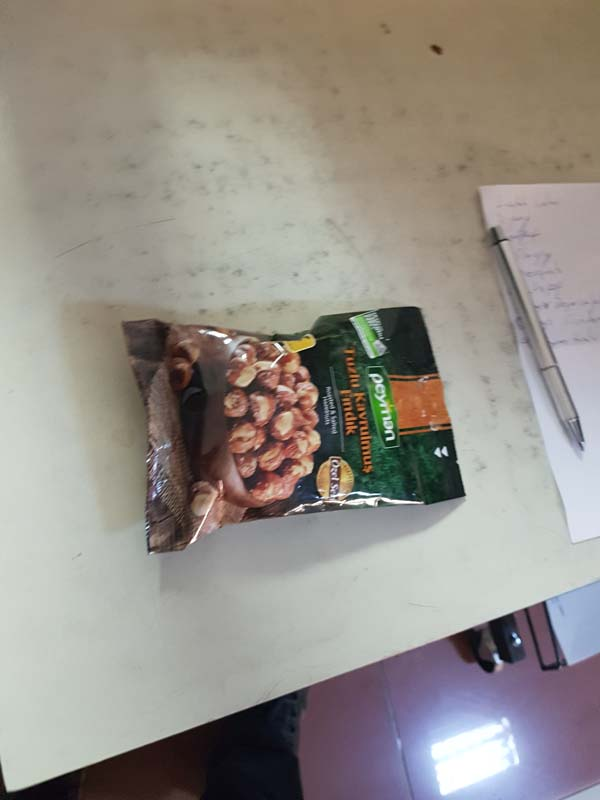peysankavrulmusfindik: (114, 299, 478, 571)
